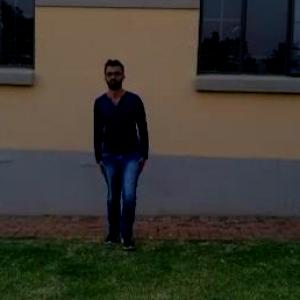follow: (83, 43, 158, 281)
